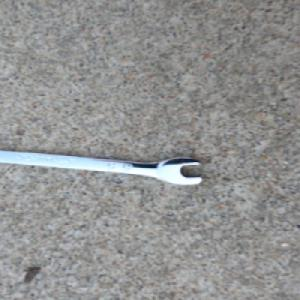Wrench: (0, 148, 205, 186)
